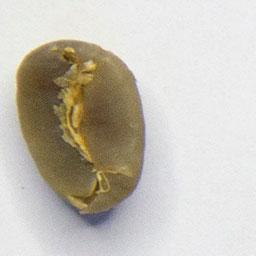premium: (13, 37, 148, 218)
